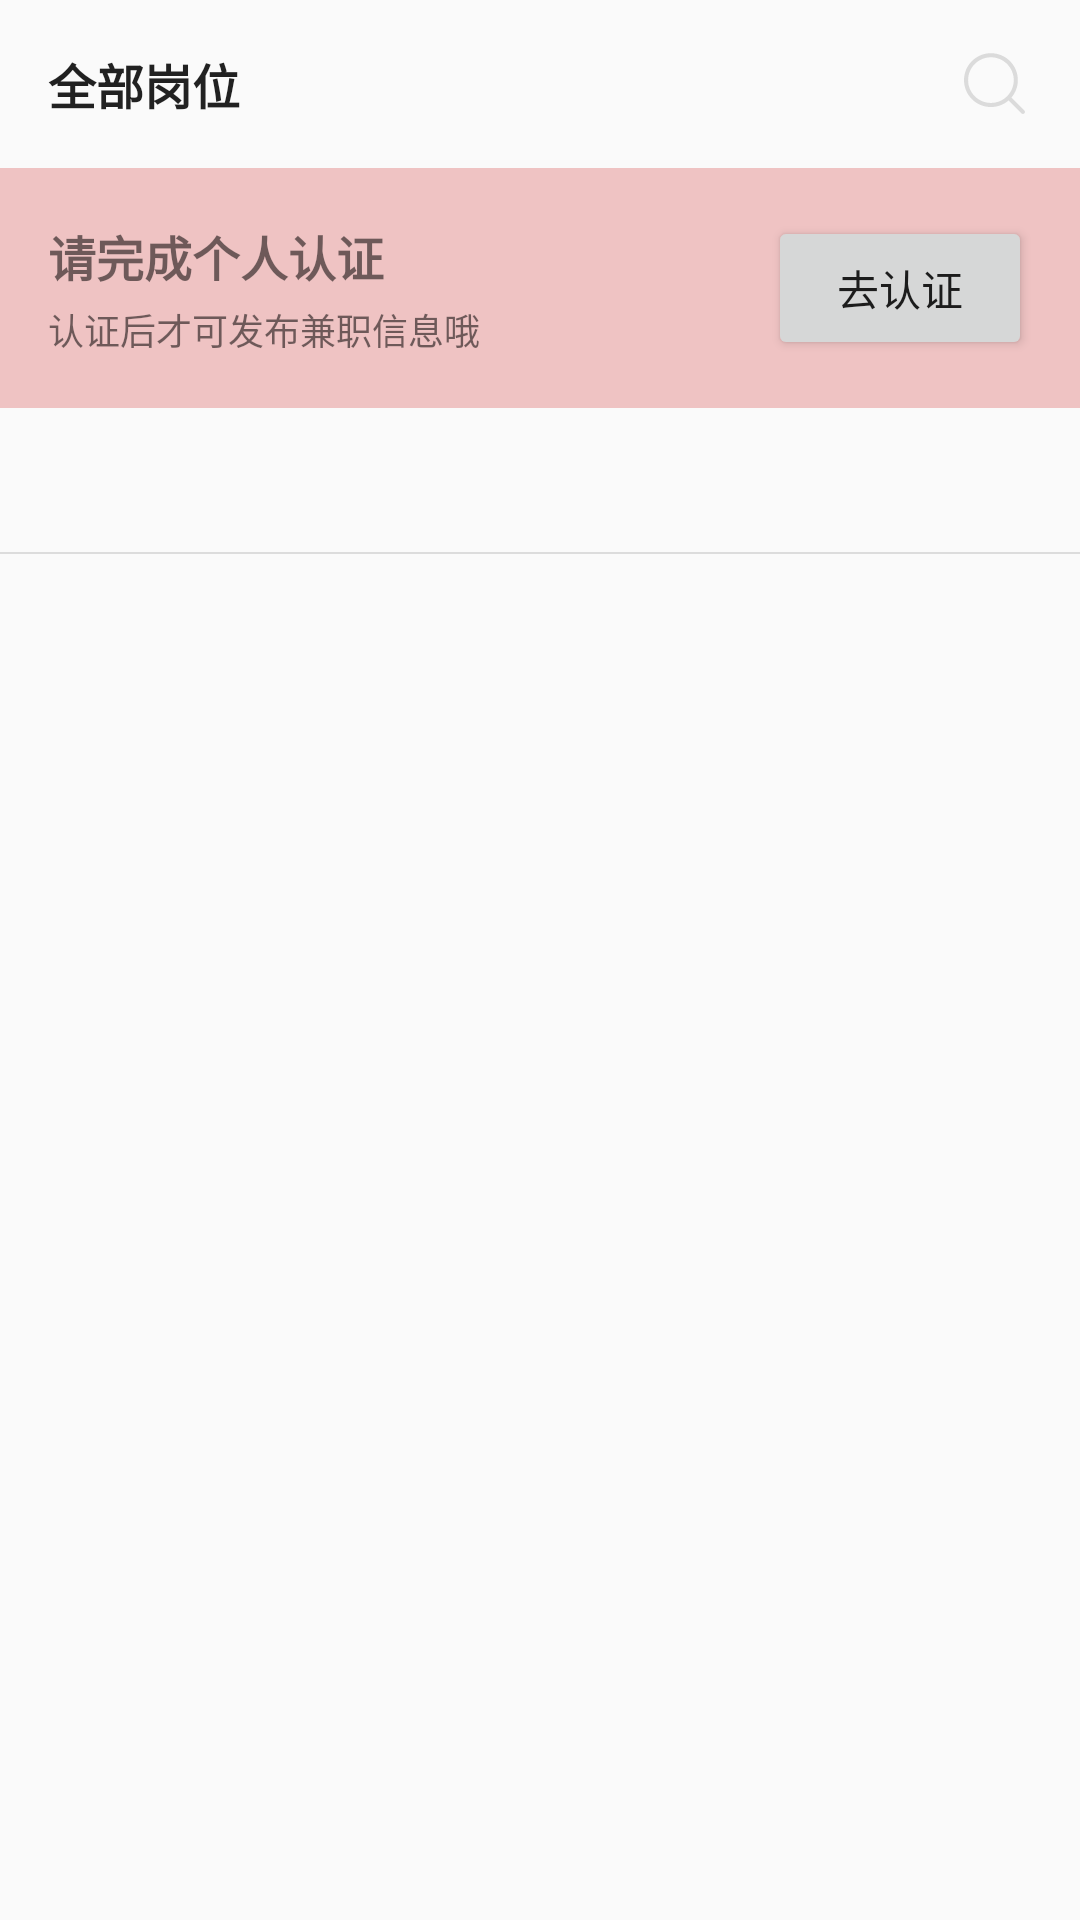

Icons on this 1080 × 1920 Android screen, each with the point to tap as (x,y):
search: (994,84)
